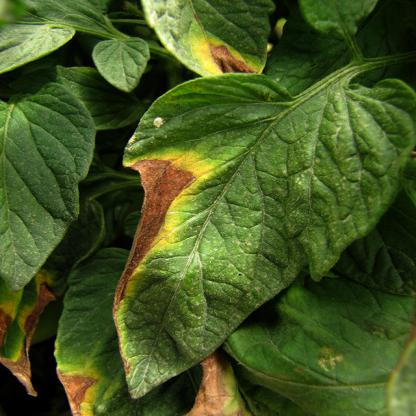tomato leaf bacterial spot: (111, 66, 408, 400)
